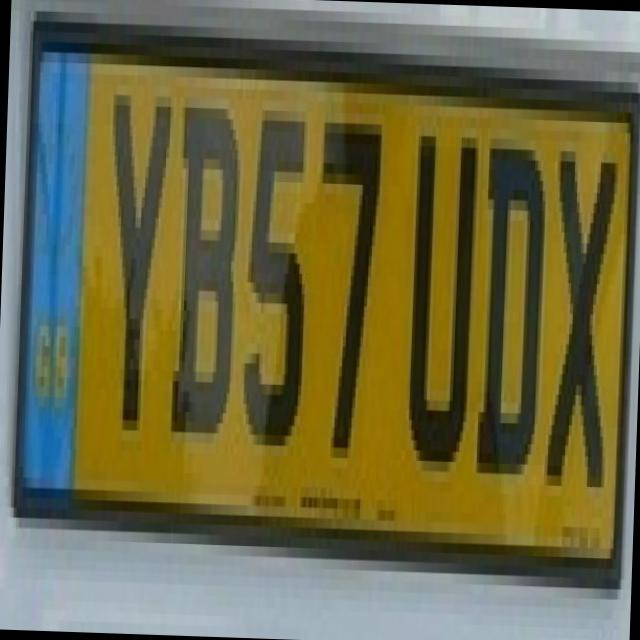LicensePlate: (3, 0, 640, 599)
